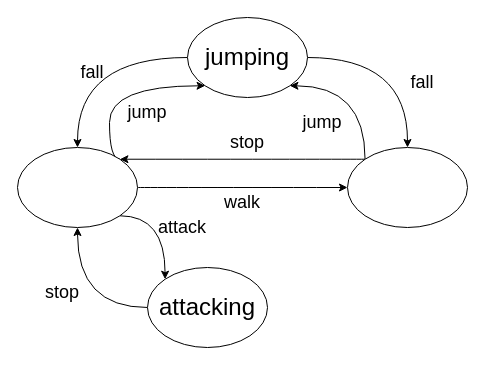
Image size: 485x365. Some labels were removed from this diagram. Here are the shapes that lost their labels. From the top down, the centre of each, then its label:
At (77,187): "standing".
At (407,187): "walking".
